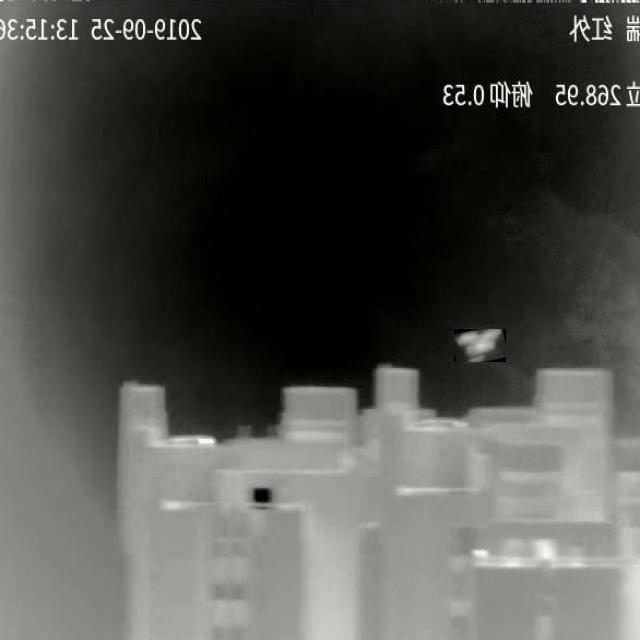drone: (454, 329, 502, 362)
